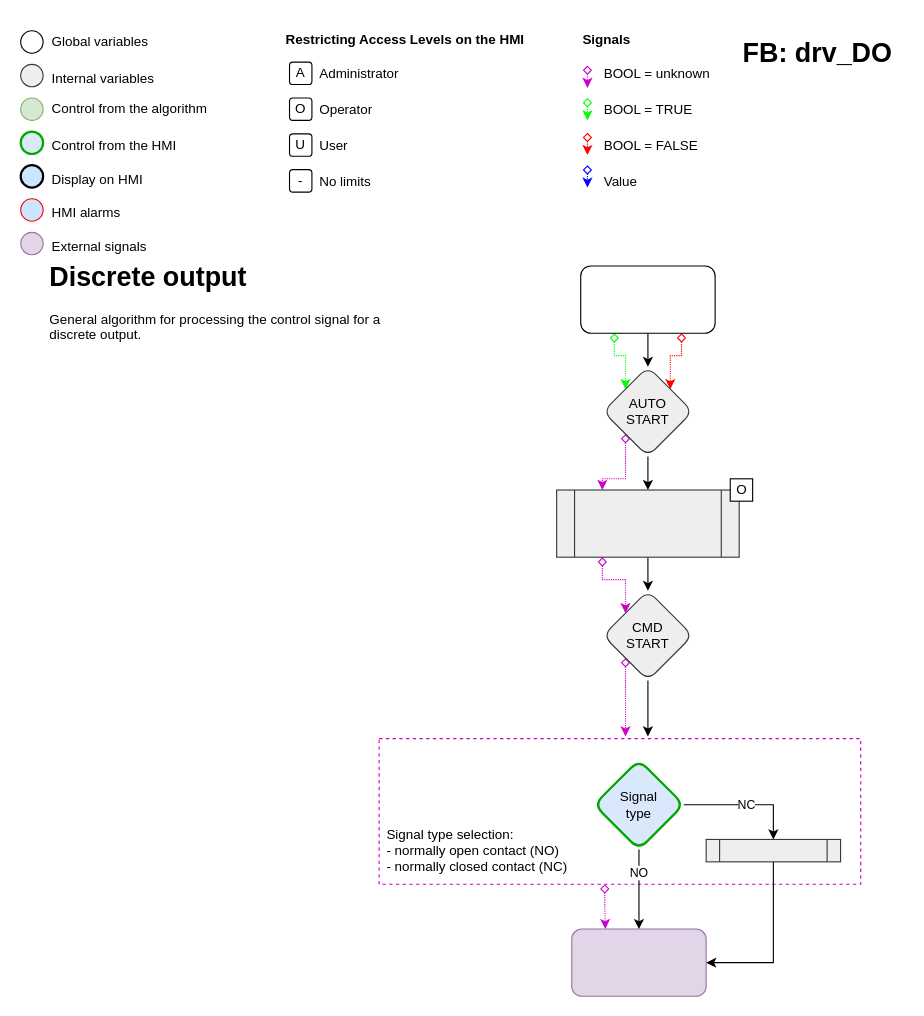
Image size: 924x1016. Some labels were removed from this diagram. The centre of each missing label's shape, as x and y in pixels:
"FC: drv_CMD" belongs at (647,523).
"Inverse" belongs at (773,850).
"Phisical output" belongs at (638,962).
"Signal from the algorithm" belongs at (647,299).
